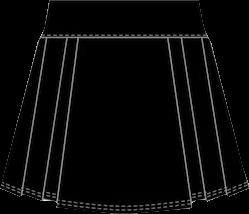Hemline: (0, 186, 248, 213)
Waistline: (39, 34, 209, 38), (49, 0, 199, 2)
